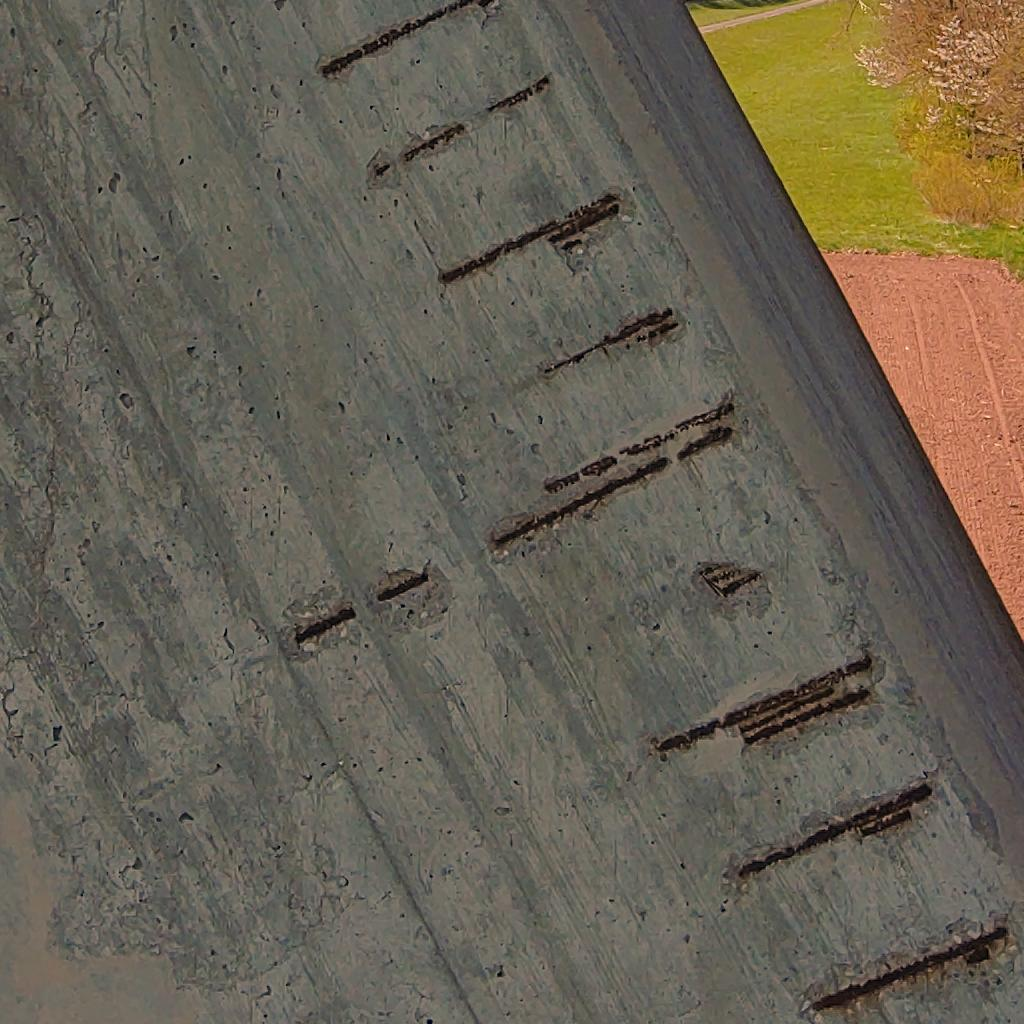exposed_rebar: (490, 394, 734, 553), (656, 656, 872, 752), (738, 784, 932, 877), (438, 192, 620, 283), (814, 926, 1008, 1011), (320, 0, 494, 77), (542, 308, 678, 374), (398, 122, 468, 164), (480, 76, 550, 115), (294, 606, 355, 645), (698, 564, 760, 597), (378, 570, 428, 601), (372, 162, 390, 179)
